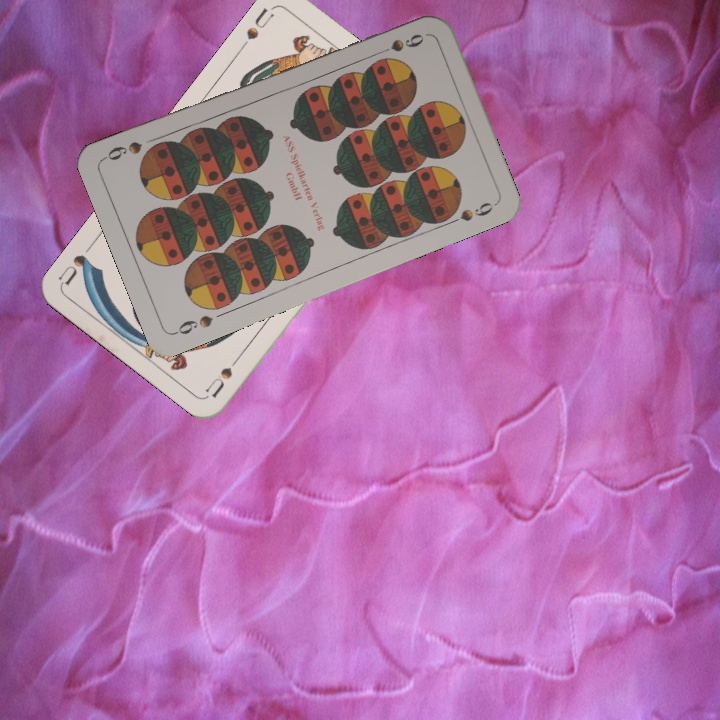S9: (370, 29, 427, 59), (170, 311, 216, 338)
SU: (201, 347, 247, 400), (242, 3, 277, 43)
